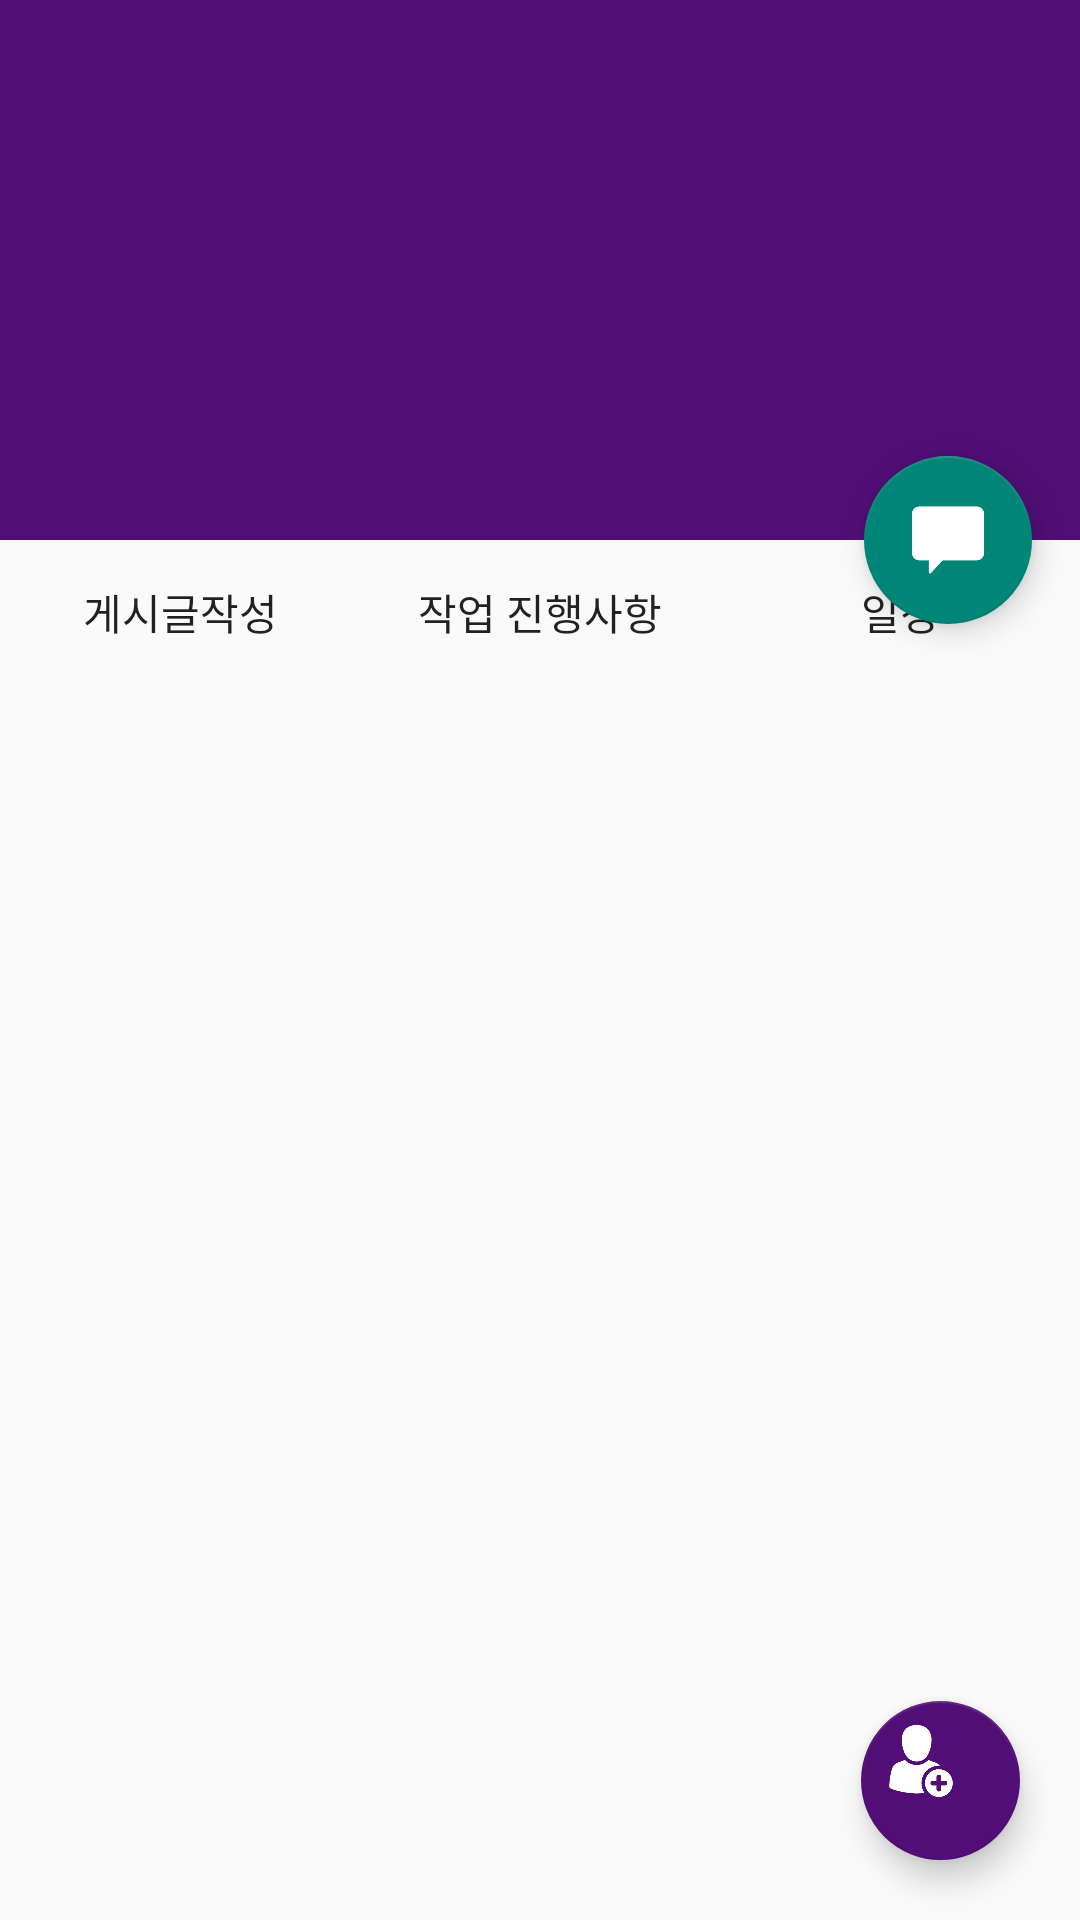

Icons on this 1080 x 1920 Android screen, each with its box as box=[x1, y1, x2, y2]:
user: box=[861, 1701, 1020, 1860]
